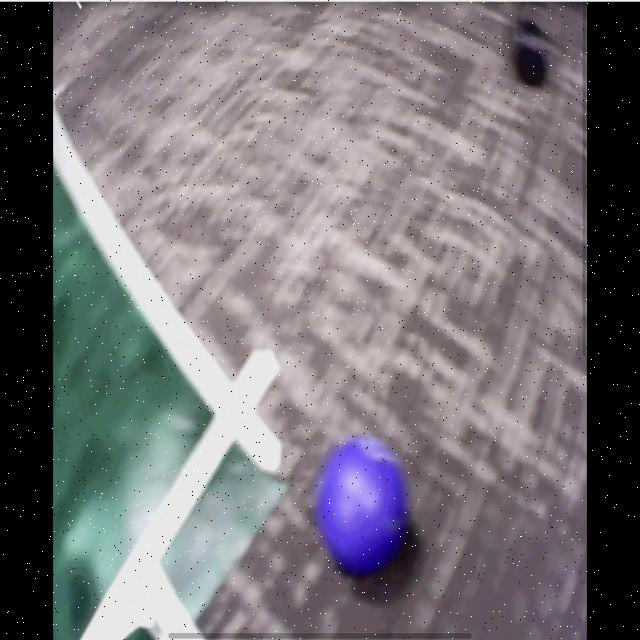ball: (324, 436, 404, 575)
